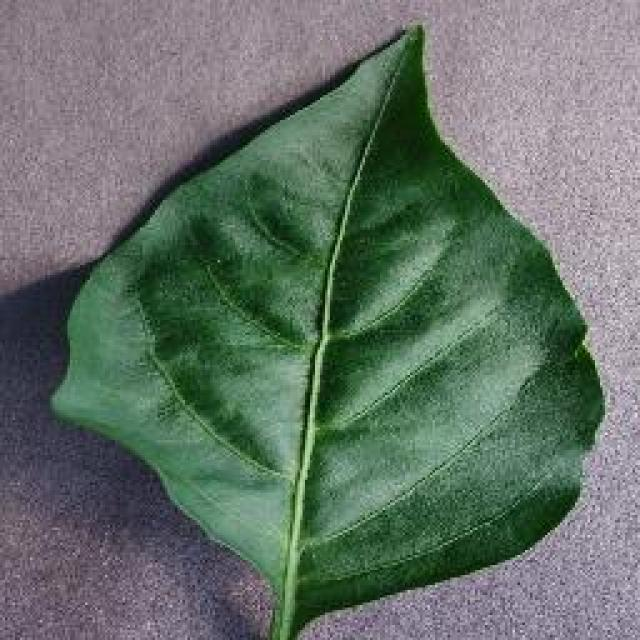Leaf: (53, 8, 621, 630)
